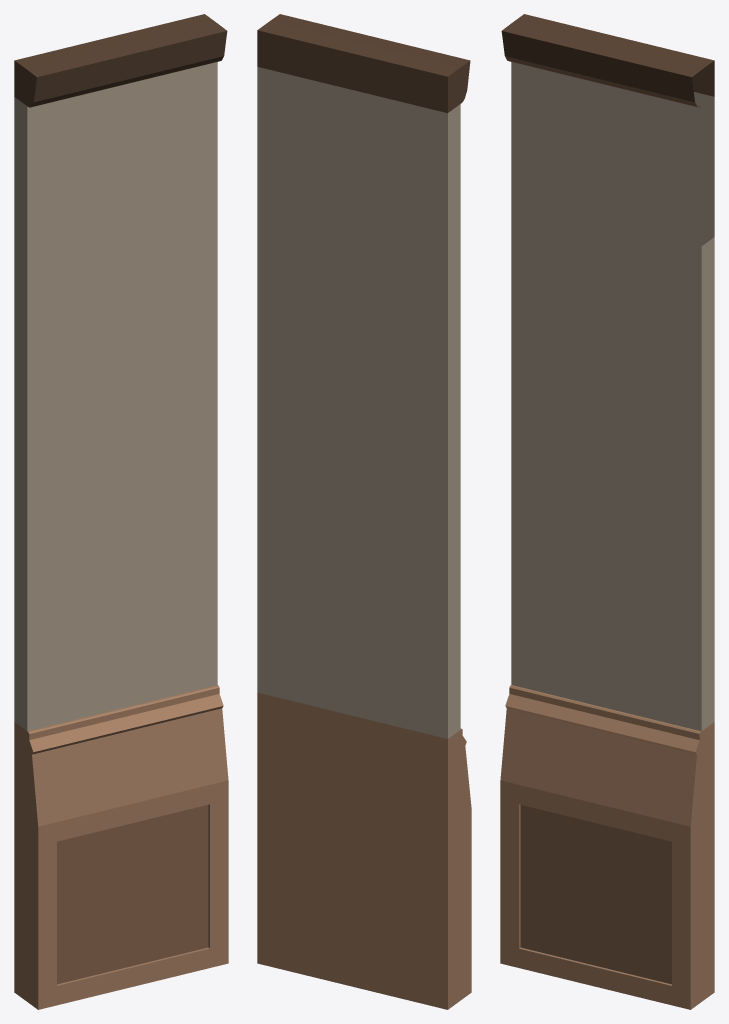
File: SingleWall_Textured.fbx
3 renders of one model, left to right at view 1: azimuth 30°, elevation 25°; view 2: azimuth 150°, elevation 25°; view 3: azimuth 330°, elevation 25°, orthographic.
Parts seen in each view (by area): view 1: Wall DoorFrame.001; view 2: Wall DoorFrame.001; view 3: Wall DoorFrame.001.
Part boxes in pixels (x1,y1,x2,y2): Wall DoorFrame.001: (14, 14, 228, 1009); Wall DoorFrame.001: (257, 14, 471, 1009); Wall DoorFrame.001: (500, 14, 714, 1009).
Bounding box in the file's own units: 98.21 × 460 × 21.26.
